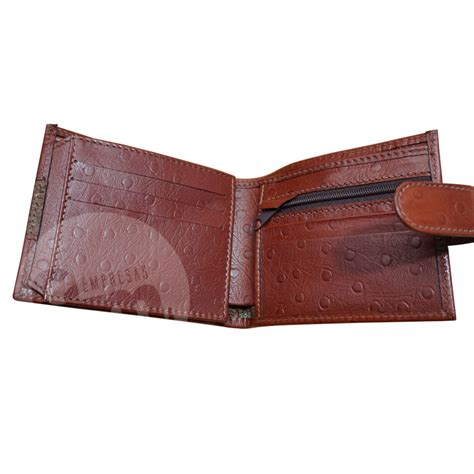cuero: (9, 120, 474, 330)
